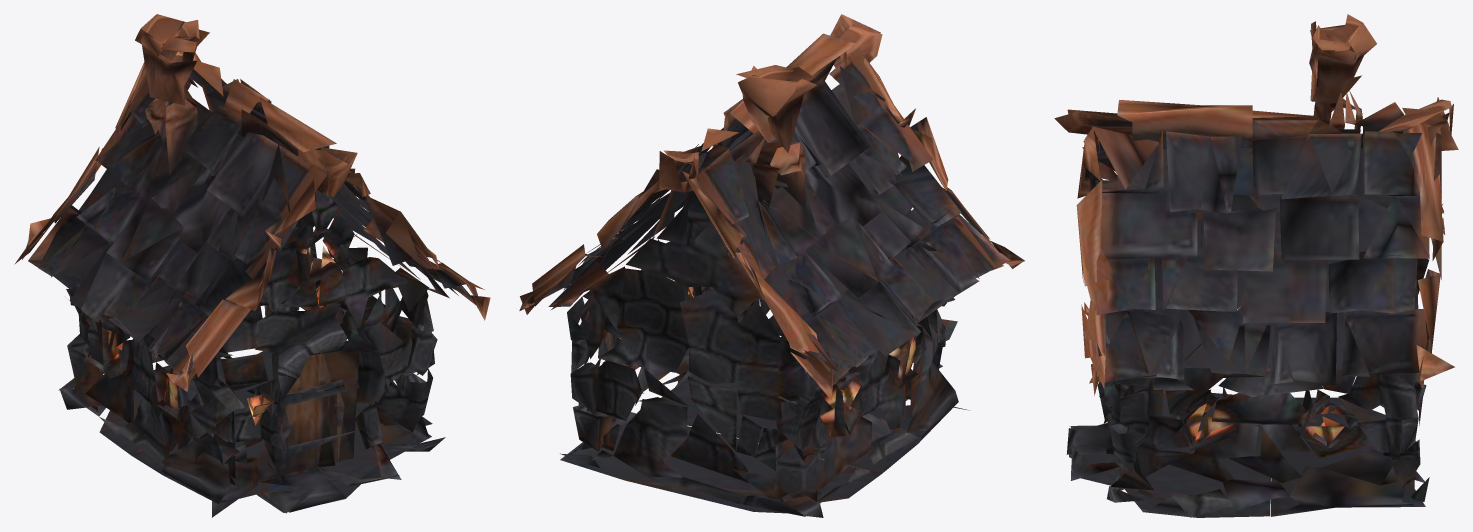
The model's file is k-maison-semis.glb.
3 views of the same model, side by side, from view 1: azimuth 30°, elevation 25°; view 2: azimuth 150°, elevation 25°; view 3: azimuth 270°, elevation 25° (orthographic). The views are drawn at different scales.
Parts seen in each view (by area): view 1: k-maison-semis; view 2: k-maison-semis; view 3: k-maison-semis.
Part boxes in pixels (left/top/right/bottom): k-maison-semis: left=14, top=14, right=490, bottom=517; k-maison-semis: left=519, top=14, right=1024, bottom=517; k-maison-semis: left=1054, top=14, right=1458, bottom=517.
Bounding box in the file's own units: 0.825 × 0.9558 × 0.8527.
1 material, 1 textured.
